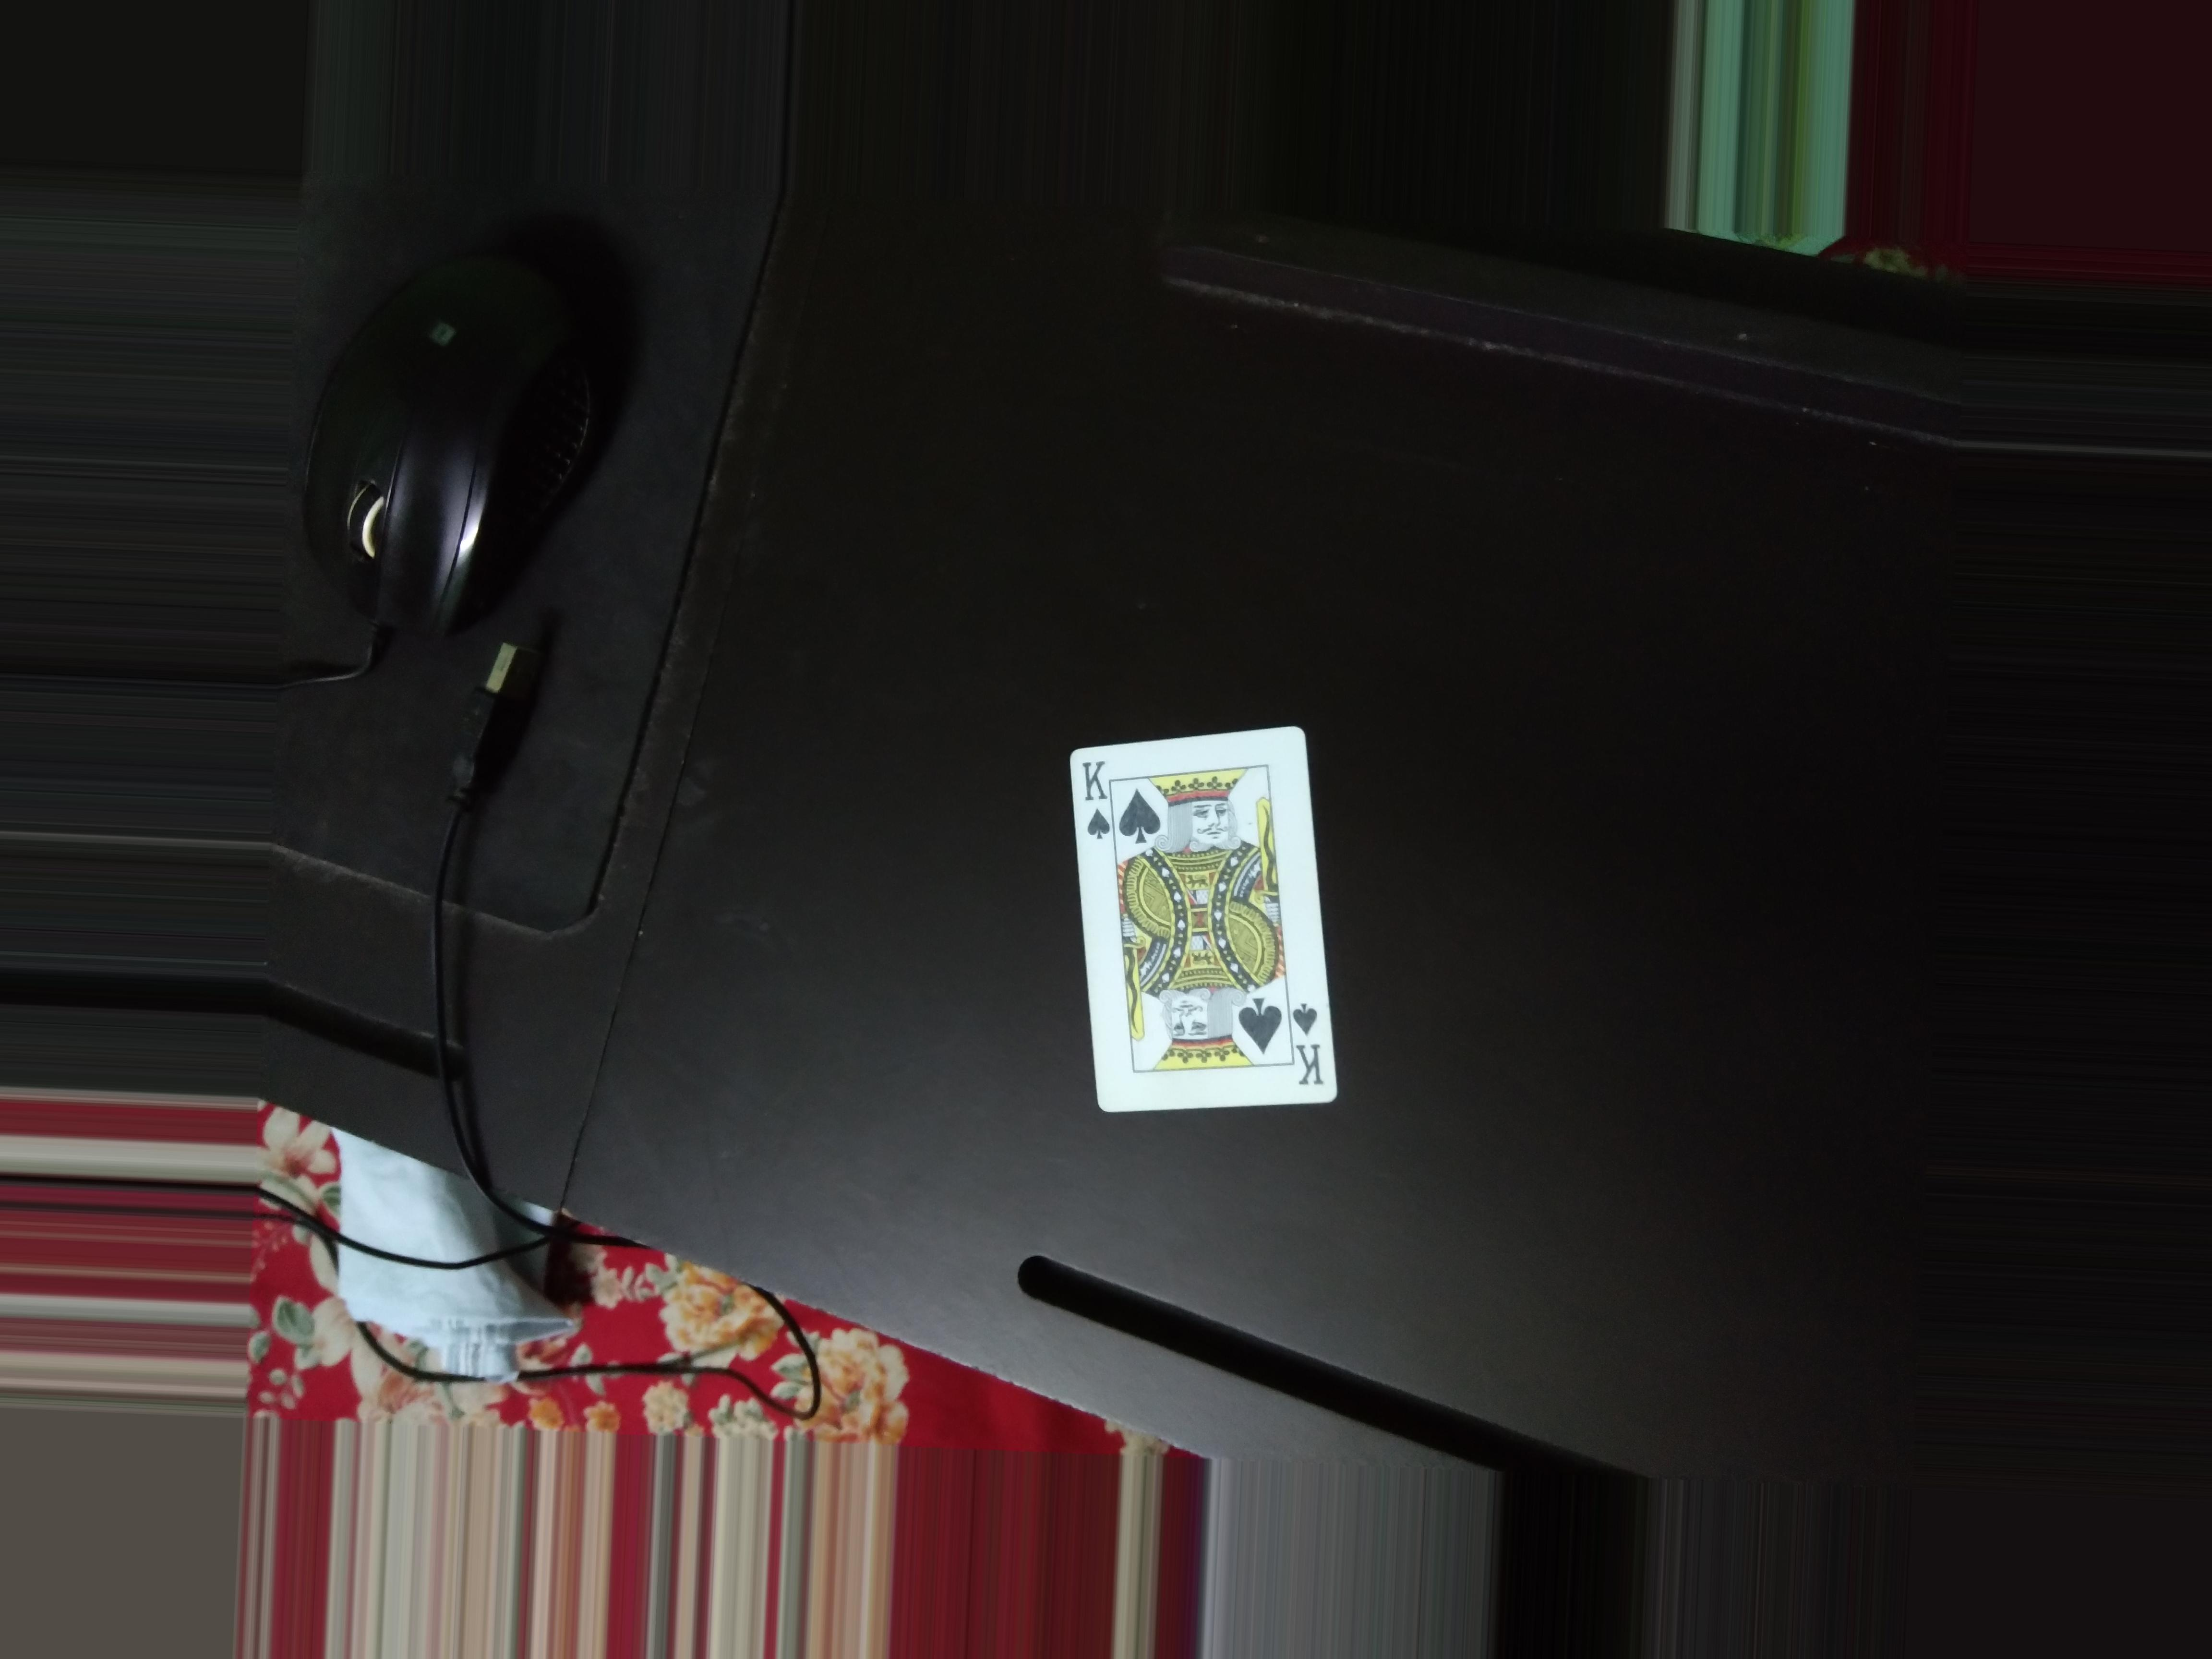KS: (1073, 749, 1113, 845)
